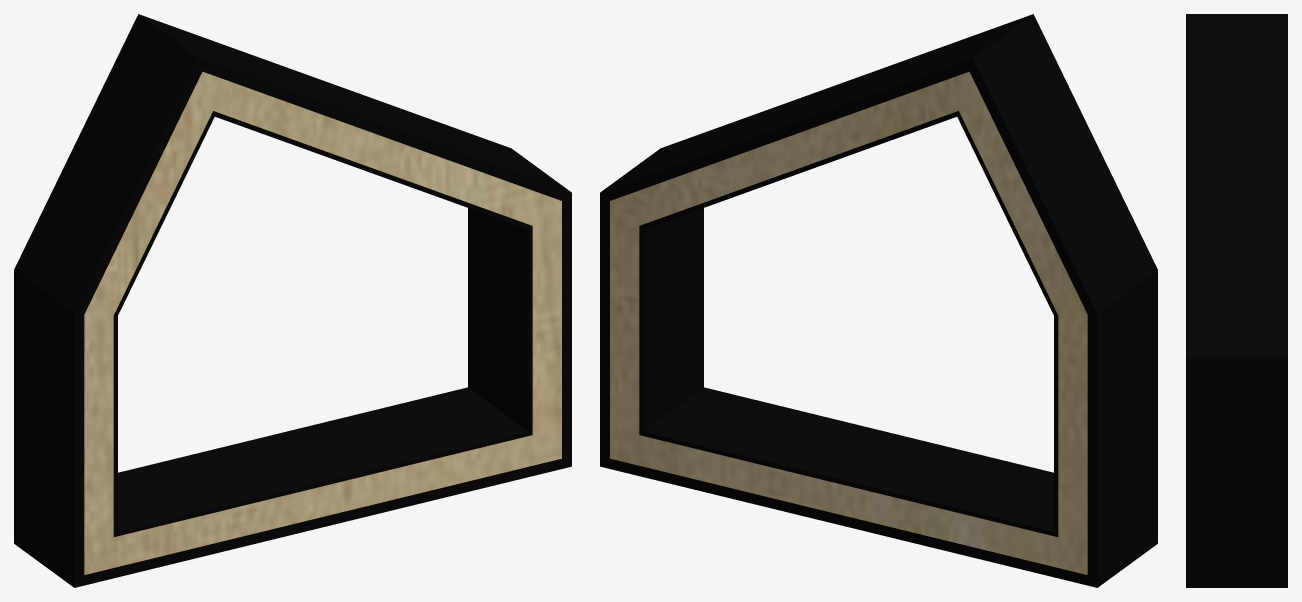
3 renders of one model, left to right at view 1: azimuth 30°, elevation 25°; view 2: azimuth 150°, elevation 25°; view 3: azimuth 270°, elevation 25°, orthographic. The views are drawn at different scales.
Visible parts, largest first — view 1: G-4; view 2: G-4; view 3: G-4.
Boxes of the visible parts, left/top/right/bottom form: G-4: left=14, top=14, right=571, bottom=587; G-4: left=600, top=14, right=1157, bottom=587; G-4: left=1186, top=14, right=1287, bottom=587.
Bounding box in the file's own units: 5.7 × 5.47 × 1.2.
2 materials, 1 textured.
